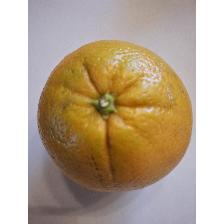Orange: (36, 38, 196, 196)
